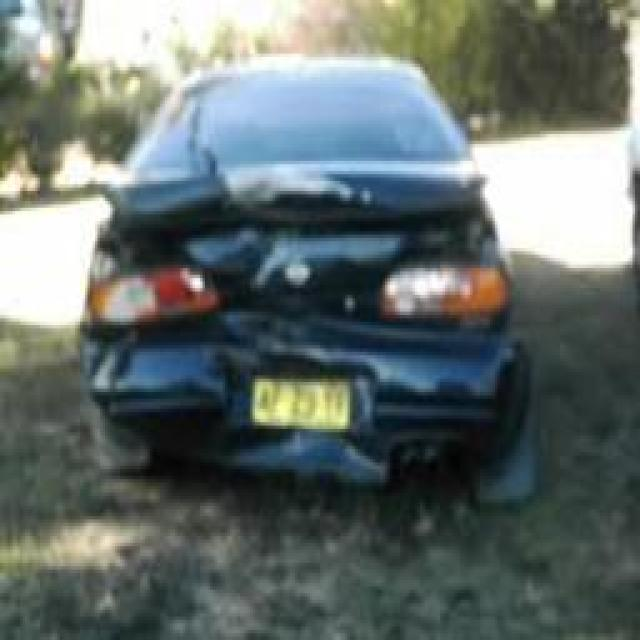Bumper: (91, 329, 534, 489)
Dickey: (105, 144, 510, 316)
Light: (78, 250, 229, 327), (378, 262, 518, 332)
